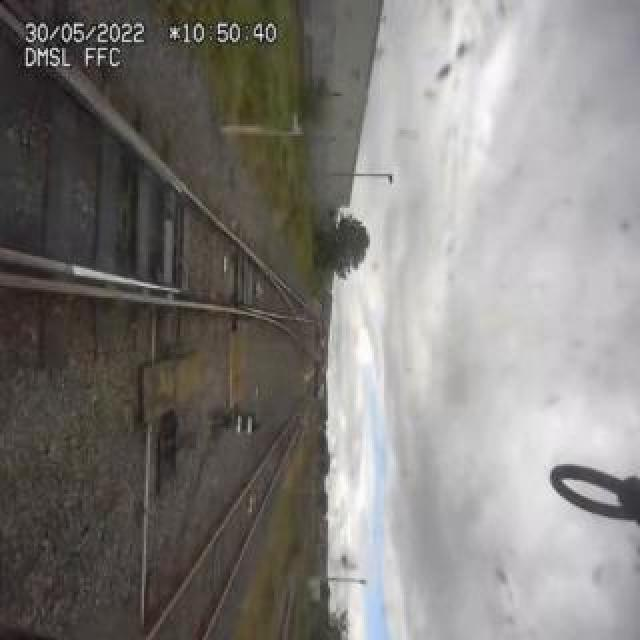rusted-track: (1, 272, 145, 324)
